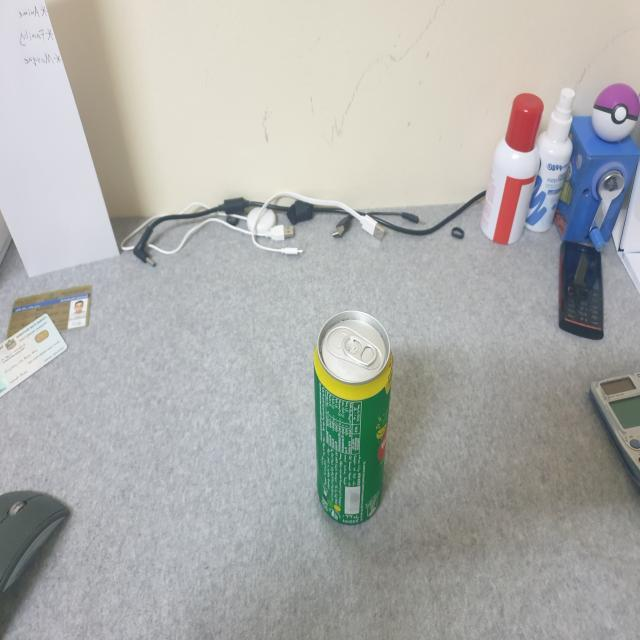can: (310, 300, 396, 538)
